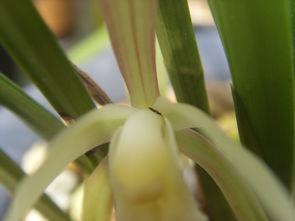tiny_pests: (147, 104, 165, 119)
